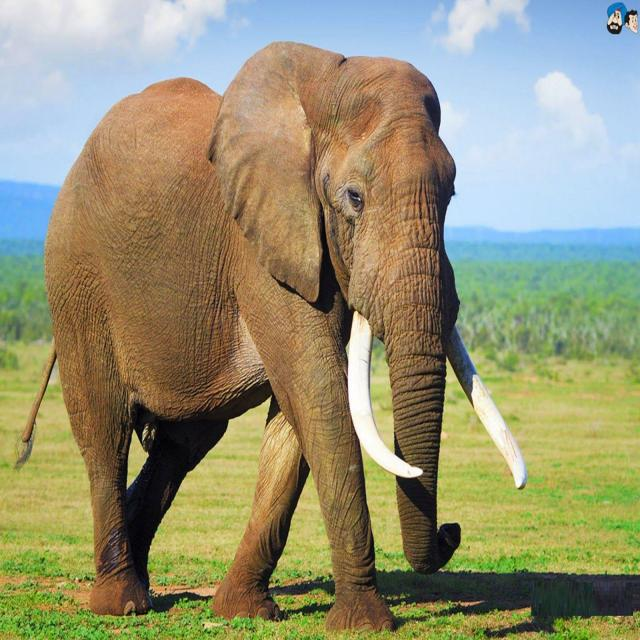Elephant: (35, 26, 530, 640)
